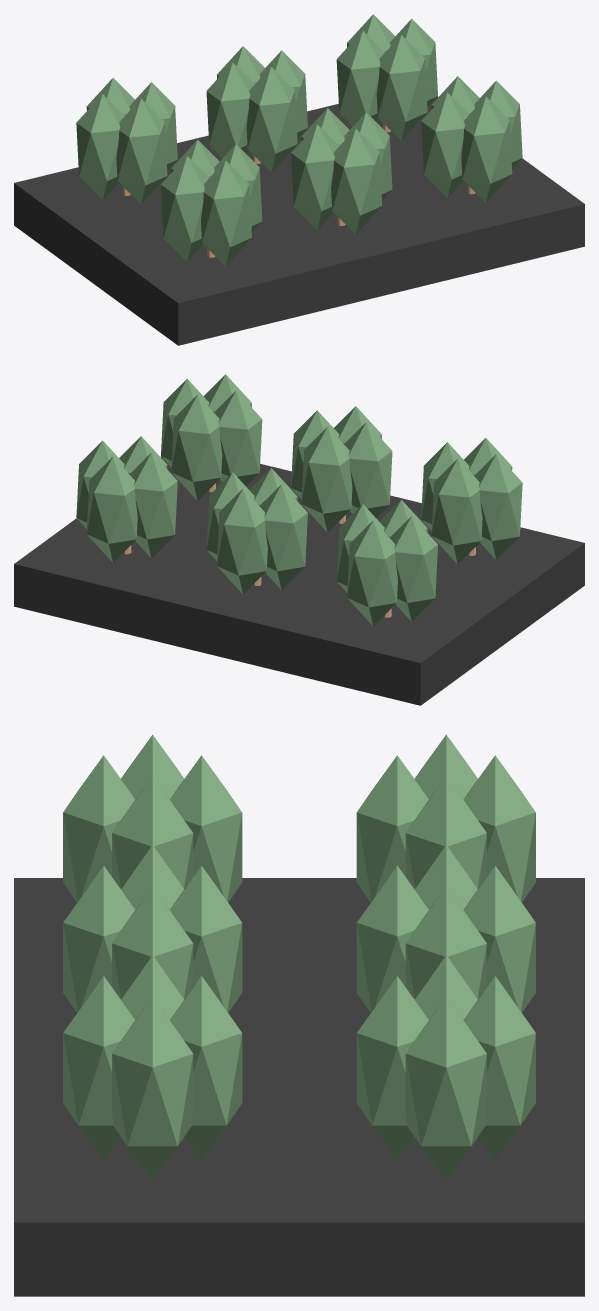
3 renders of one model, top to bottom at view 1: azimuth 30°, elevation 25°; view 2: azimuth 150°, elevation 25°; view 3: azimuth 270°, elevation 25°, orthographic. The views are drawn at different scales.
Visible parts, largest first — view 1: Tray, Leaf.023, Leaf.015, Leaf.003, Leaf.019, Leaf.007, Leaf.011, Leaf.018, Leaf.006, Leaf.010, Leaf.002, Leaf.014 (+13 smaller); view 2: Tray, Leaf.017, Leaf.009, Leaf.005, Leaf.021, Leaf.001, Leaf.013, Leaf.022, Leaf.002, Leaf.014, Leaf.006, Leaf.010 (+13 smaller); view 3: Tray, Leaf.016, Leaf.020, Leaf.017, Leaf.023, Leaf.019, Leaf.021, Leaf.001, Leaf.007, Leaf.009, Leaf.015, Leaf.003 (+13 smaller).
Boxes of the visible parts, left/top/right/bottom form: Tray: left=14, top=96, right=584, bottom=345; Leaf.023: left=376, top=35, right=427, bottom=140; Leaf.015: left=246, top=66, right=297, bottom=172; Leaf.003: left=201, top=160, right=251, bottom=266; Leaf.019: left=461, top=97, right=512, bottom=202; Leaf.007: left=116, top=98, right=167, bottom=204; Leaf.011: left=331, top=128, right=382, bottom=234; Leaf.018: left=421, top=92, right=469, bottom=198; Leaf.006: left=76, top=94, right=124, bottom=199; Leaf.010: left=291, top=124, right=339, bottom=230; Leaf.002: left=161, top=156, right=208, bottom=261; Leaf.014: left=206, top=62, right=254, bottom=158; Tray: left=14, top=456, right=584, bottom=705; Leaf.017: left=171, top=395, right=222, bottom=500; Leaf.009: left=301, top=426, right=352, bottom=532; Leaf.005: left=347, top=520, right=397, bottom=626; Leaf.021: left=86, top=457, right=137, bottom=562; Leaf.001: left=431, top=458, right=482, bottom=564; Leaf.013: left=216, top=488, right=267, bottom=594; Leaf.022: left=129, top=452, right=177, bottom=558; Leaf.002: left=474, top=454, right=522, bottom=559; Leaf.014: left=259, top=484, right=307, bottom=590; Leaf.006: left=390, top=516, right=437, bottom=621; Leaf.010: left=344, top=422, right=392, bottom=518; Tray: left=14, top=878, right=584, bottom=1296; Leaf.016: left=112, top=996, right=193, bottom=1180; Leaf.020: left=405, top=996, right=486, bottom=1180; Leaf.017: left=170, top=976, right=242, bottom=1160; Leaf.023: left=356, top=976, right=428, bottom=1160; Leaf.019: left=63, top=976, right=135, bottom=1160; Leaf.021: left=463, top=976, right=535, bottom=1160; Leaf.001: left=170, top=755, right=242, bottom=902; Leaf.007: left=356, top=755, right=428, bottom=902; Leaf.009: left=170, top=865, right=242, bottom=1012; Leaf.015: left=356, top=865, right=428, bottom=1012; Leaf.003: left=63, top=755, right=135, bottom=901.
Bounding box in the file's own units: 0.5 × 0.175 × 0.35.
Materials: 1 (1 with a texture image).
